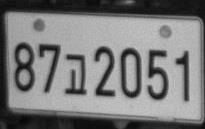0: (119, 46, 142, 98)
1: (173, 49, 196, 101)
2: (93, 45, 115, 96)
5: (146, 48, 170, 101)
7: (38, 43, 62, 92)
8: (13, 41, 36, 91)
고: (64, 53, 87, 94)
